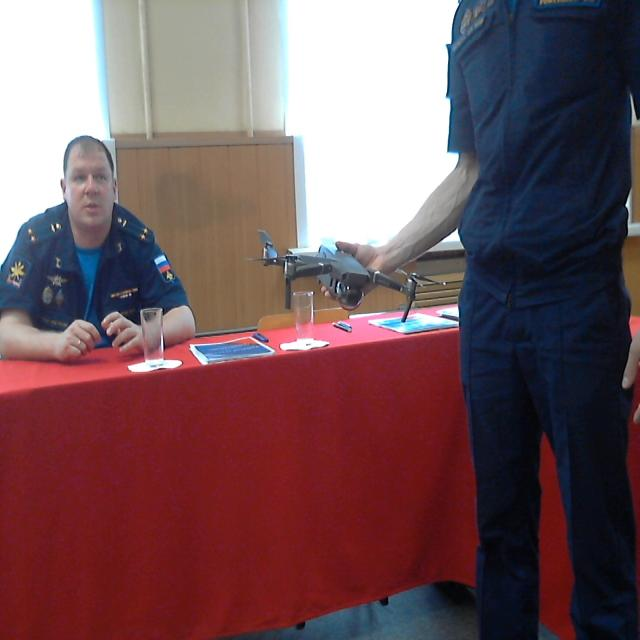drone: (247, 212, 462, 321)
